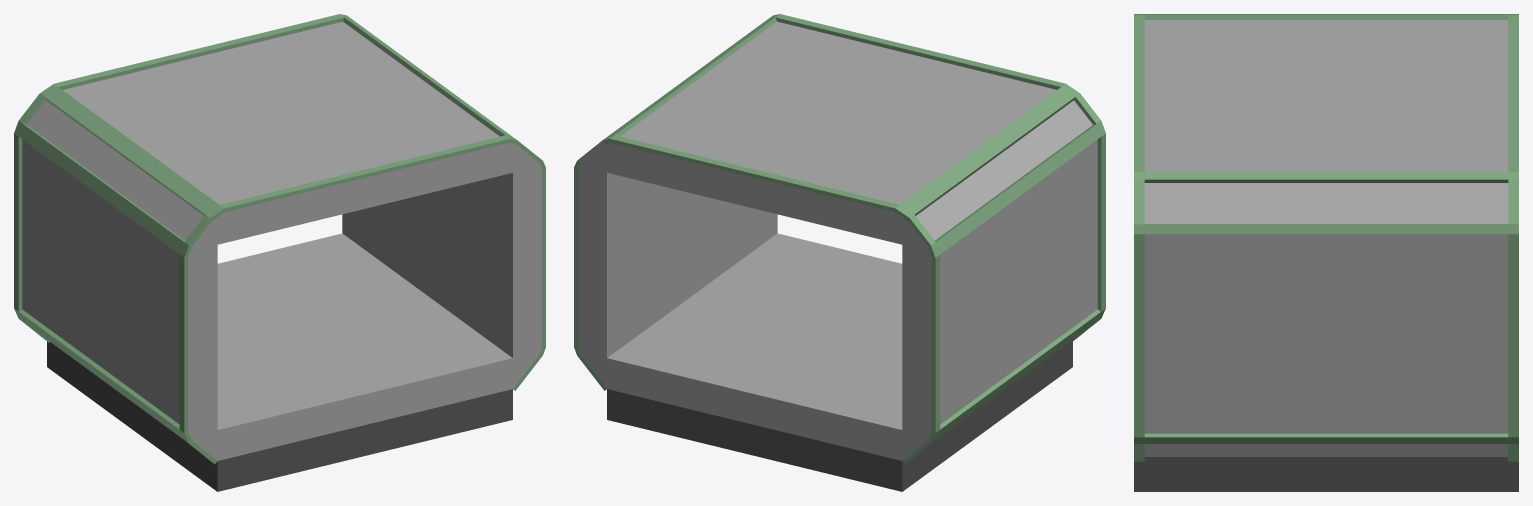
Rendered from ExteriorBase.fbx.
3 renders of one model, left to right at view 1: azimuth 30°, elevation 25°; view 2: azimuth 150°, elevation 25°; view 3: azimuth 270°, elevation 25°, orthographic. The views are drawn at different scales.
Parts seen in each view (by area): view 1: ExteriorBase; view 2: ExteriorBase; view 3: ExteriorBase.
Boxes of the visible parts, x1,y1,x2,y2 form: ExteriorBase: (14,14,545,491); ExteriorBase: (574,14,1105,491); ExteriorBase: (1134,14,1518,491).
Bounding box in the file's own units: 1224 × 912 × 1000.
